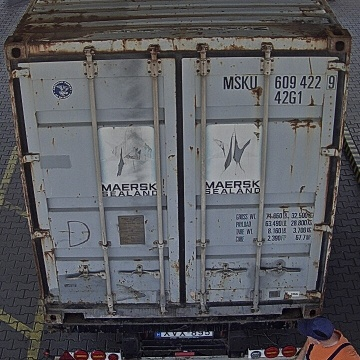serial_id: (223, 74, 336, 88)
